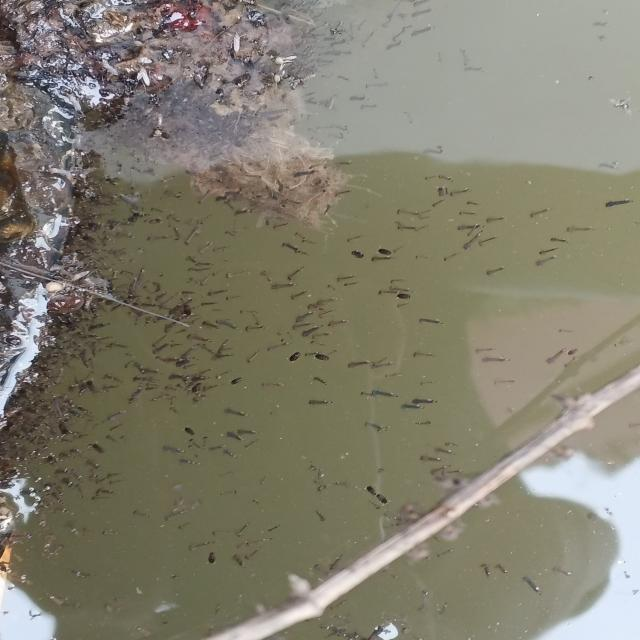Breeding Place: (0, 0, 640, 640)
Mosquito Swarm: (0, 89, 609, 564)
